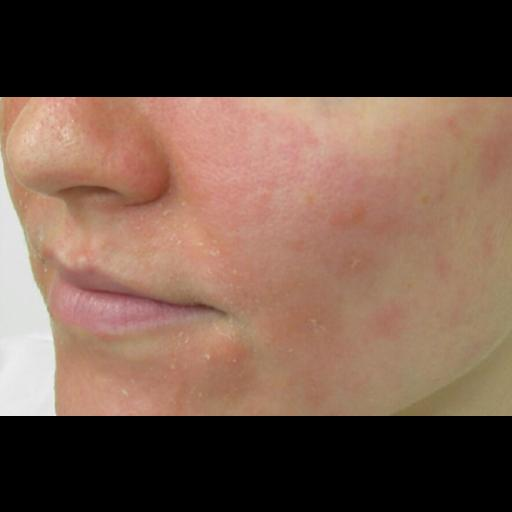Skin_Lesion: (324, 200, 378, 240), (300, 306, 336, 346), (372, 302, 406, 342), (468, 226, 496, 260), (432, 250, 456, 282), (443, 112, 469, 138), (197, 352, 241, 366), (205, 243, 231, 263), (39, 242, 55, 266)
